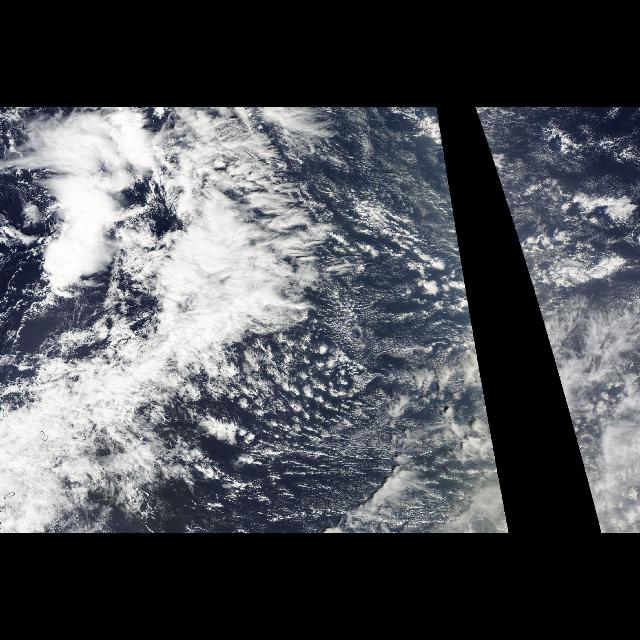Sugar: (260, 320, 446, 532), (478, 125, 624, 297), (345, 125, 469, 297)
